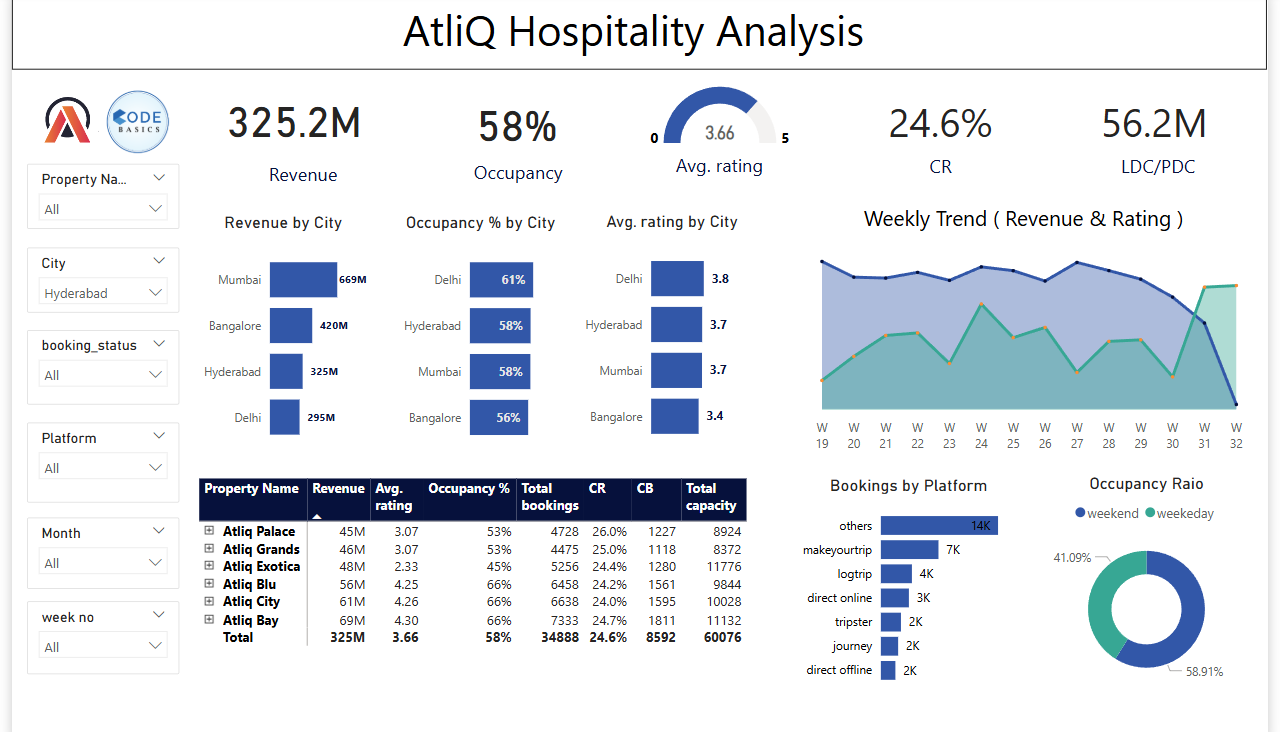

The dashboard page shown, as its layout file describes it:
{"tool":"powerbi","page":{"name":"Overall","canvas":[1280,760],"ordinal":0},"visuals":[{"type":"textbox","box":[0,0,1278.1,75.7],"z":0,"group":"g1"},{"type":"group","id":"g1","title":"visuals","box":[0,0,1278.1,715.5],"z":1000},{"type":"textbox","box":[443.5,163.2,145.1,44.5],"z":2000},{"type":"textbox","box":[873.6,156.6,145.2,44.6],"z":3000},{"type":"textbox","box":[1094.7,156.6,145.1,44.5],"z":4000},{"type":"textbox","box":[224.2,164.9,145.1,39.6],"z":5000},{"type":"clusteredBarChart","title":"Revenue by City","fields":{"Category":["dim_hotels.city"],"Y":["resource_measures.revenue"]},"box":[185.9,222.1,181,251.7],"z":5000,"group":"g1"},{"type":"card","fields":{"Values":["resource_measures.Occupancy %"]},"box":[454.4,96.6,119.3,64.4],"z":6000,"group":"g1"},{"type":"textbox","box":[648.2,155.4,145.2,44.6],"z":6000},{"type":"textbox","box":[802.3,207.8,456.5,48.5],"z":6500},{"type":"clusteredBarChart","title":"Occupancy % by City","fields":{"Category":["dim_hotels.city"],"Y":["resource_measures.Occupancy %"]},"box":[389.3,221.6,175.7,252.1],"z":7000,"group":"g1"},{"type":"gauge","fields":{"MaxValue":["resource_measures.max.rating"],"MinValue":["resource_measures.min.rating"],"Y":["resource_measures.avg.rating mod"]},"box":[640.6,87.9,161.7,73.9],"z":8000,"group":"g1"},{"type":"clusteredBarChart","title":"Avg. rating by City","fields":{"Category":["dim_hotels.city"],"Y":["resource_measures.Avg. rating"]},"box":[573.7,220.9,196.2,252.2],"z":9000,"group":"g1"},{"type":"donutChart","title":"Occupancy Raio","fields":{"Category":["dim_date.day_type"],"Y":["resource_measures.Occupancy %"]},"box":[1045.2,488,220.9,227.5],"z":10000,"group":"g1"},{"type":"areaChart","title":"Weekly Trend (Revenue & Rating)","fields":{"Category":["dim_date.week no"],"Y2":["resource_measures.Avg. rating"],"Y":["resource_measures.revenue"]},"box":[793.2,256.3,473.2,216.9],"z":11000,"group":"g1"},{"type":"clusteredBarChart","title":"Bookings by Platform","fields":{"Category":["fact_bookings.booking_platform"],"Y":["resource_measures.Total bookings"]},"box":[793,489.6,240.7,224.2],"z":12000,"group":"g1"},{"type":"pivotTable","fields":{"Rows":["dim_hotels.property_name","dim_hotels.city"],"Values":["resource_measures.revenue","resource_measures.Avg. rating","resource_measures.Occupancy %","resource_measures.Total bookings","resource_measures.CR","resource_measures.Total cancelled bookings","resource_measures.Total capacity"]},"box":[186.3,488,583.6,224.2],"z":13000,"group":"g1"},{"type":"slicer","fields":{"Values":["dim_date.week no"]},"box":[14.8,618.2,155,74.2],"z":15000,"group":"g1"},{"type":"slicer","fields":{"Values":["dim_date.mmm yy.Variation.Date Hierarchy.Month"]},"box":[14.8,532.5,155,72.5],"z":16000,"group":"g1"},{"type":"slicer","fields":{"Values":["fact_bookings.booking_platform"]},"box":[15.1,435.8,155.3,81.4],"z":17000,"group":"g1"},{"type":"slicer","fields":{"Values":["fact_bookings.booking_status"]},"box":[15.1,341.5,155.3,75.7],"z":18000,"group":"g1"},{"type":"slicer","fields":{"Values":["dim_hotels.city"]},"box":[15.1,256.7,155.3,66.3],"z":19000,"group":"g1"},{"type":"slicer","fields":{"Values":["dim_hotels.property_name"]},"box":[15.1,171.9,155.3,66.3],"z":20000,"group":"g1"},{"type":"card","fields":{"Values":["resource_measures.LDC"]},"box":[1088.8,96.8,150.3,64.9],"z":21000,"group":"g1"},{"type":"card","fields":{"Values":["resource_measures.CR"]},"box":[868.5,96.8,155.4,64.9],"z":22000,"group":"g1"},{"type":"card","fields":{"Values":["resource_measures.revenue"]},"box":[206.7,87.4,163.2,74.2],"z":24000,"group":"g1"},{"type":"image","title":"atliq","box":[15.1,90.4,77.6,73.8],"z":25000,"group":"g1"},{"type":"image","title":"codebasics","box":[85.2,90.4,85.2,77.6],"z":26000,"group":"g1"}]}

Visuals, with their boxes on the page's 1280x760 design canvas (x1, y1, x2, y2). These are canvas units, not pixel positions in the 1280x732 screenshot, which may show the page scaled, cropped or inside an application window:
textbox: locate(0, 0, 1278, 76)
"visuals" group: locate(0, 0, 1278, 716)
textbox: locate(444, 163, 589, 208)
textbox: locate(874, 157, 1019, 201)
textbox: locate(1095, 157, 1240, 201)
textbox: locate(224, 165, 369, 204)
"Revenue by City" clusteredBarChart: locate(186, 222, 367, 474)
card - resource_measures.Occupancy %: locate(454, 97, 574, 161)
textbox: locate(648, 155, 793, 200)
textbox: locate(802, 208, 1259, 256)
"Occupancy % by City" clusteredBarChart: locate(389, 222, 565, 474)
gauge - resource_measures.max.rating x resource_measures.min.rating: locate(641, 88, 802, 162)
"Avg. rating by City" clusteredBarChart: locate(574, 221, 770, 473)
"Occupancy Raio" donutChart: locate(1045, 488, 1266, 716)
"Weekly Trend (Revenue & Rating)" areaChart: locate(793, 256, 1266, 473)
"Bookings by Platform" clusteredBarChart: locate(793, 490, 1034, 714)
pivotTable - dim_hotels.property_name x dim_hotels.city: locate(186, 488, 770, 712)
slicer - dim_date.week no: locate(15, 618, 170, 692)
slicer - dim_date.mmm yy.Variation.Date Hierarchy.Month: locate(15, 532, 170, 605)
slicer - fact_bookings.booking_platform: locate(15, 436, 170, 517)
slicer - fact_bookings.booking_status: locate(15, 342, 170, 417)
slicer - dim_hotels.city: locate(15, 257, 170, 323)
slicer - dim_hotels.property_name: locate(15, 172, 170, 238)
card - resource_measures.LDC: locate(1089, 97, 1239, 162)
card - resource_measures.CR: locate(868, 97, 1024, 162)
card - resource_measures.revenue: locate(207, 87, 370, 162)
"atliq" image: locate(15, 90, 93, 164)
"codebasics" image: locate(85, 90, 170, 168)
